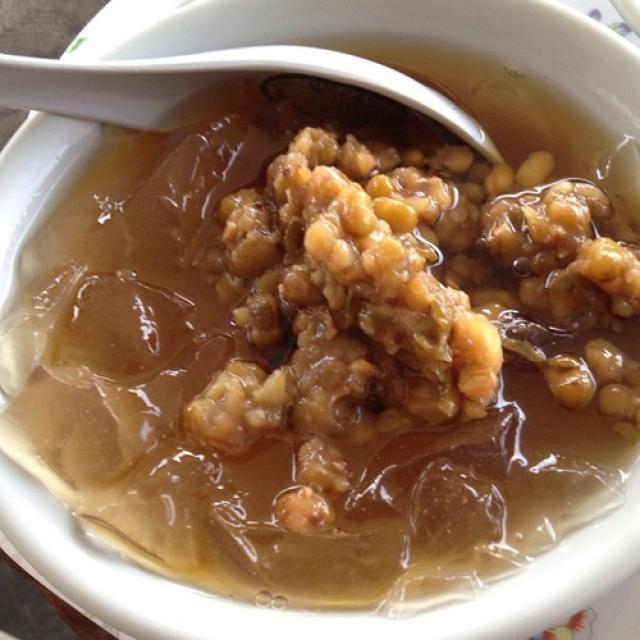蛋糕甜品: (13, 28, 635, 599)
